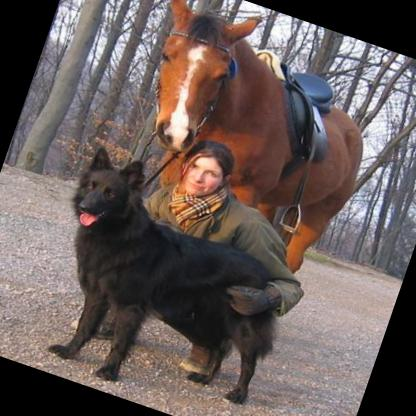groenendael: (18, 137, 319, 416)
